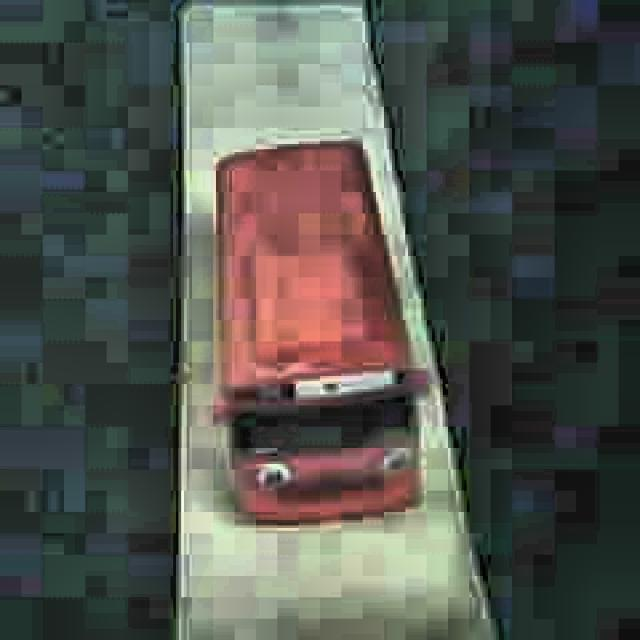bus: (210, 137, 433, 534)
